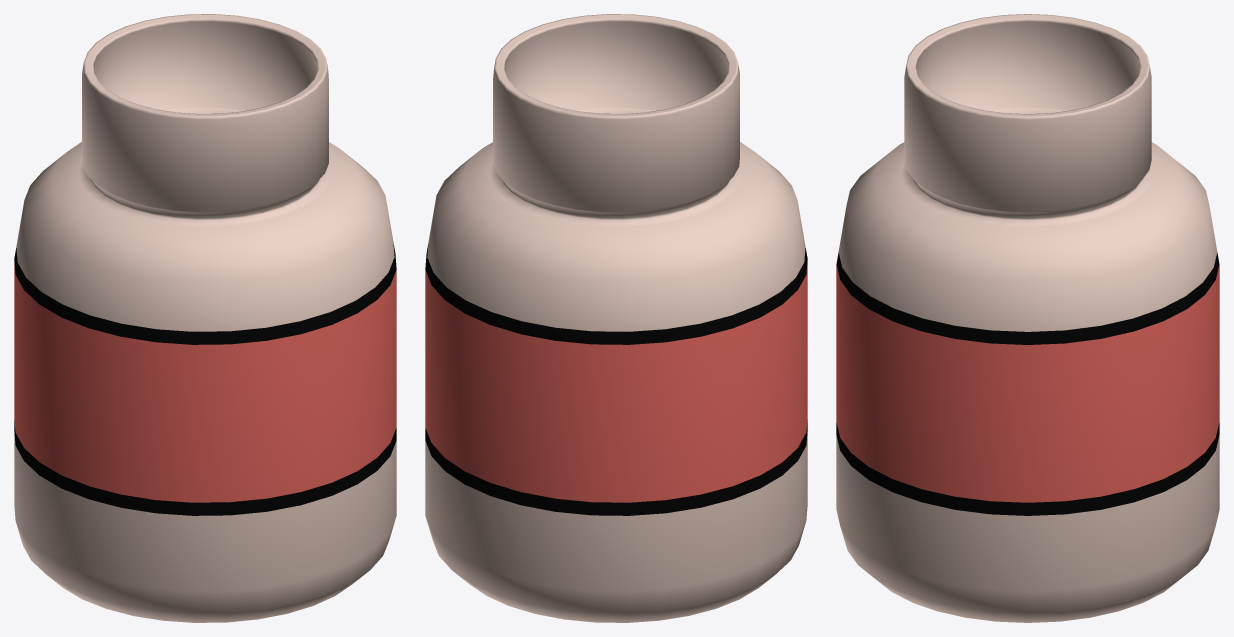
Rendered from potrougenoir_t.fbx.
3 views of the same model, side by side, from view 1: azimuth 30°, elevation 25°; view 2: azimuth 150°, elevation 25°; view 3: azimuth 270°, elevation 25° (orthographic).
Parts seen in each view (by area): view 1: pill_bottle_Cylinder.001; view 2: pill_bottle_Cylinder.001; view 3: pill_bottle_Cylinder.001.
Boxes of the visible parts, box(x1,y1,x2,y2) form: pill_bottle_Cylinder.001: box(14, 14, 396, 622); pill_bottle_Cylinder.001: box(425, 14, 807, 622); pill_bottle_Cylinder.001: box(836, 14, 1219, 622).
Size of the model in its own units: 11.04 by 15.74 by 11.04.
